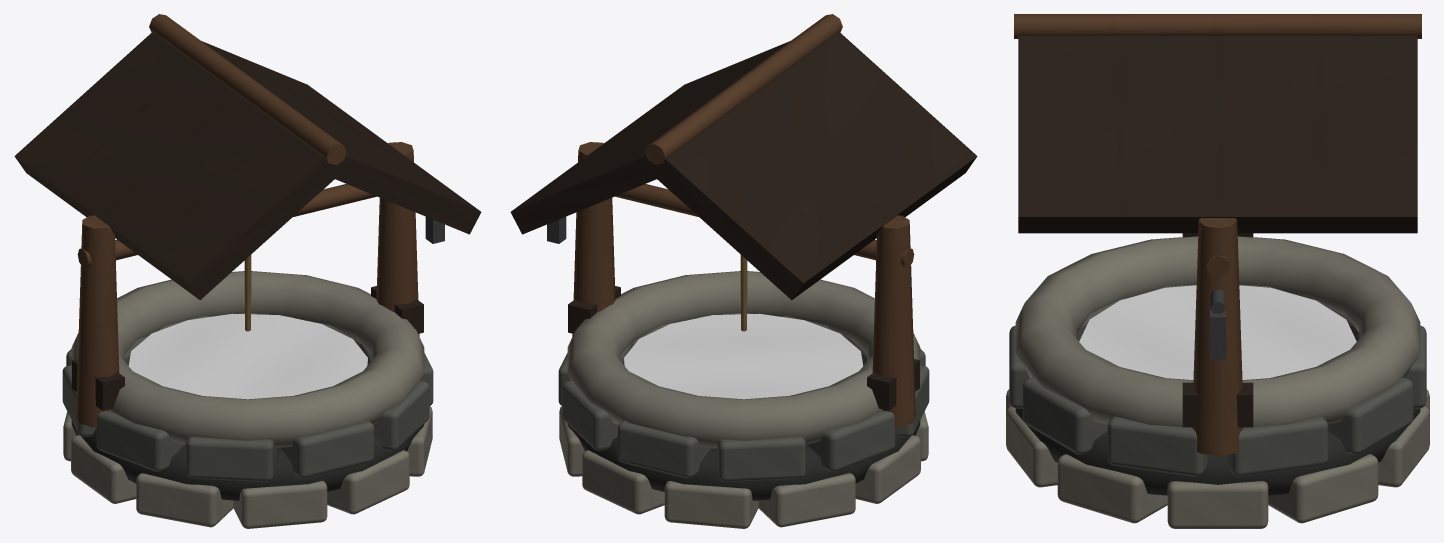
File: sk-well.glb
The picture shows the model from 3 angles, left to right: view 1: azimuth 30°, elevation 25°; view 2: azimuth 150°, elevation 25°; view 3: azimuth 270°, elevation 25°; orthographic projection. The views are drawn at different scales.
Visible parts, largest first — view 1: settlement:well-static-wood (×3), settlement:well-static-stone (×2), well-opening, well-masonry-lower-ring; view 2: settlement:well-static-wood (×3), settlement:well-static-stone (×2), well-opening, well-masonry-lower-ring; view 3: settlement:well-static-wood (×3), settlement:well-static-stone (×2), well-opening, well-masonry-lower-ring, settlement:well-static-metal.
Part boxes in pixels (x1,y1,x2,y2): settlement:well-static-wood (×3): (14, 14, 481, 427); settlement:well-static-stone (×2): (62, 271, 433, 528); well-opening: (128, 313, 367, 399); well-masonry-lower-ring: (71, 420, 424, 500); settlement:well-static-wood (×3): (510, 14, 977, 427); settlement:well-static-stone (×2): (558, 271, 929, 528); well-opening: (624, 313, 863, 399); well-masonry-lower-ring: (567, 420, 920, 500); settlement:well-static-wood (×3): (1014, 14, 1421, 456); settlement:well-static-stone (×2): (1006, 236, 1429, 528); well-opening: (1079, 285, 1356, 379); well-masonry-lower-ring: (1015, 408, 1420, 495); settlement:well-static-metal: (1210, 289, 1225, 359).
Size of the model in its own units: 1.63 by 1.6 by 1.43.
Materials: 9 (9 with a texture image).
